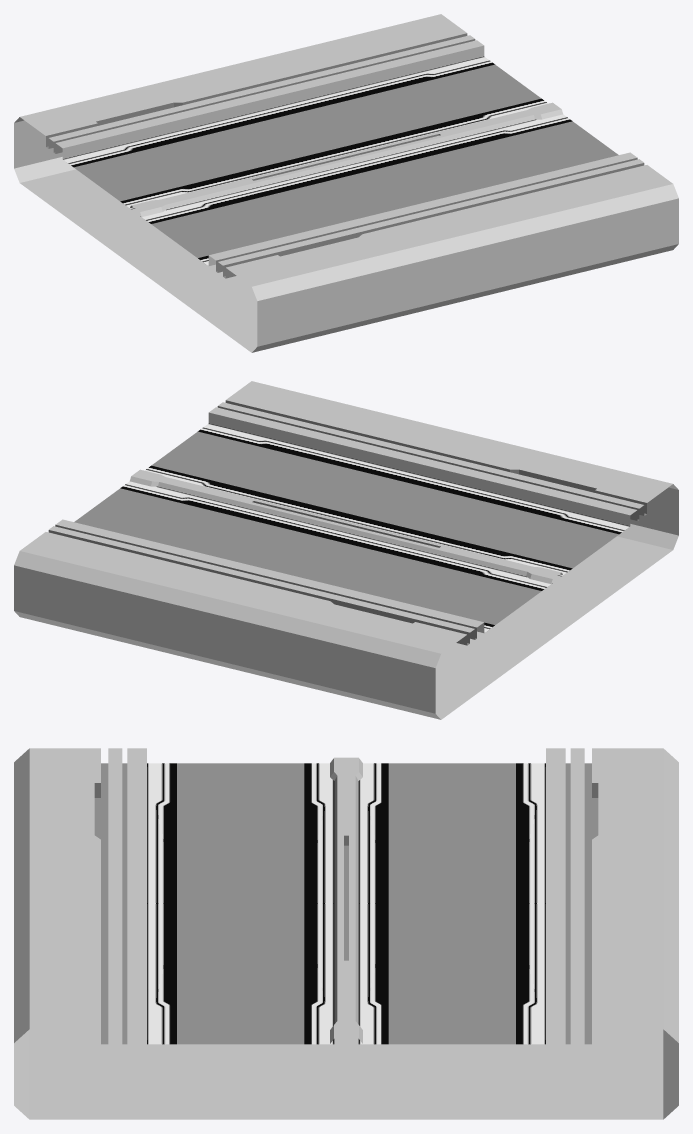
The model's file is Street_01.fbx.
3 renders of one model, top to bottom at view 1: azimuth 30°, elevation 25°; view 2: azimuth 150°, elevation 25°; view 3: azimuth 270°, elevation 25°, orthographic. The views are drawn at different scales.
Parts seen in each view (by area): view 1: Stree_01, Street_01_Decal_Text; view 2: Stree_01, Street_01_Decal_Text; view 3: Stree_01, Street_01_Decal_Text.
Boxes of the visible parts, x1,y1,x2,y2 form: Stree_01: (14, 14, 678, 352); Street_01_Decal_Text: (63, 56, 572, 265); Stree_01: (14, 381, 678, 719); Street_01_Decal_Text: (120, 423, 629, 632); Stree_01: (14, 748, 678, 1119); Street_01_Decal_Text: (147, 763, 545, 1044).
Bounding box in the file's own units: 20 × 3 × 20.
